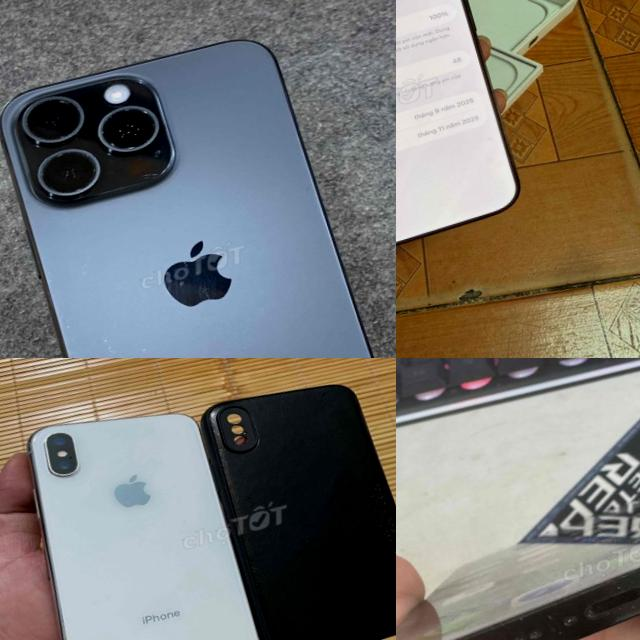physical_damage: (135, 167, 159, 180)
scratch: (535, 489, 640, 639), (74, 253, 98, 277), (192, 282, 213, 304), (100, 334, 116, 357), (41, 266, 56, 286), (138, 345, 148, 353), (63, 322, 72, 330)
